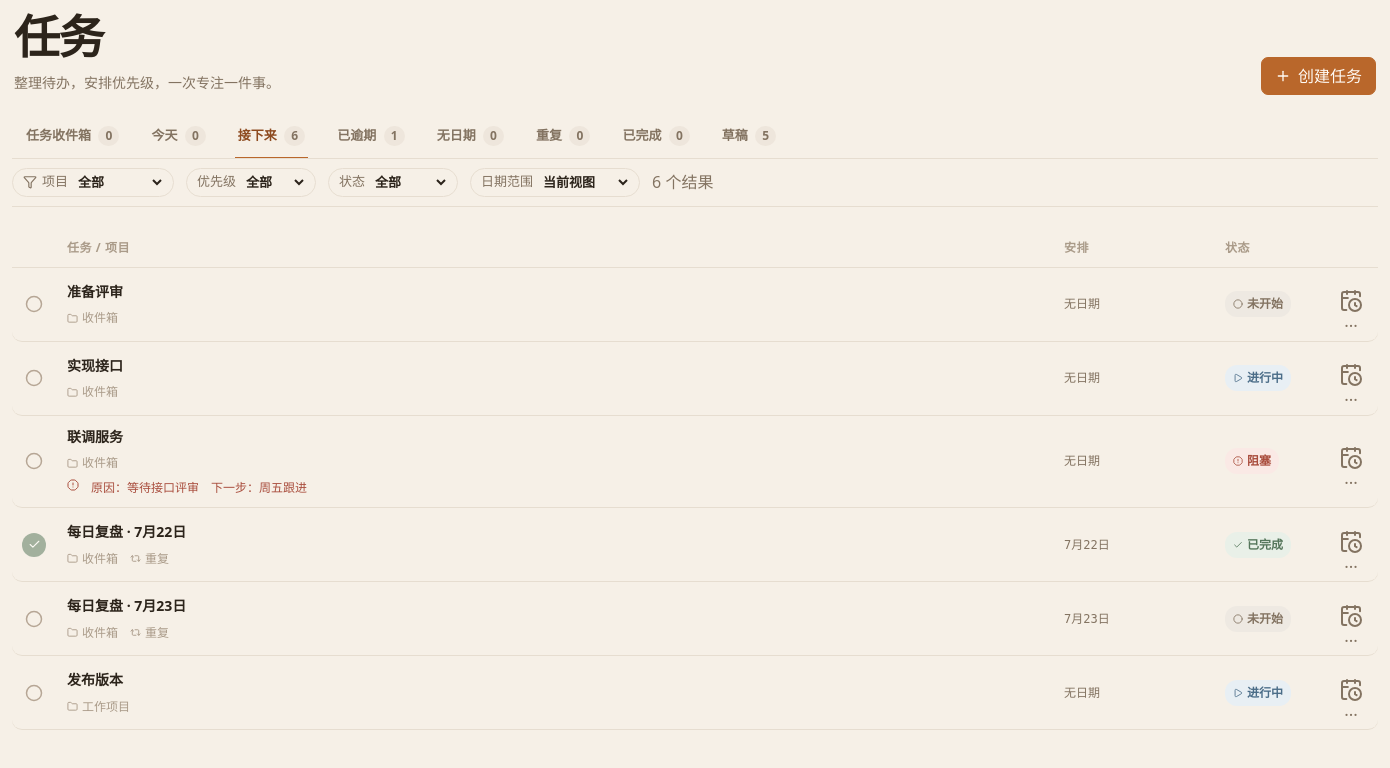
Task occurrence workspace › keeps upcoming selected by default and never mixes overdue into it
Expected: the text "准备评审" is shown, [67,282,123,301]
Expected: the text "补交周报" is not shown
Step 1. Click the tab "已逾期 1" → x=371, y=136, box [323,115,419,158]
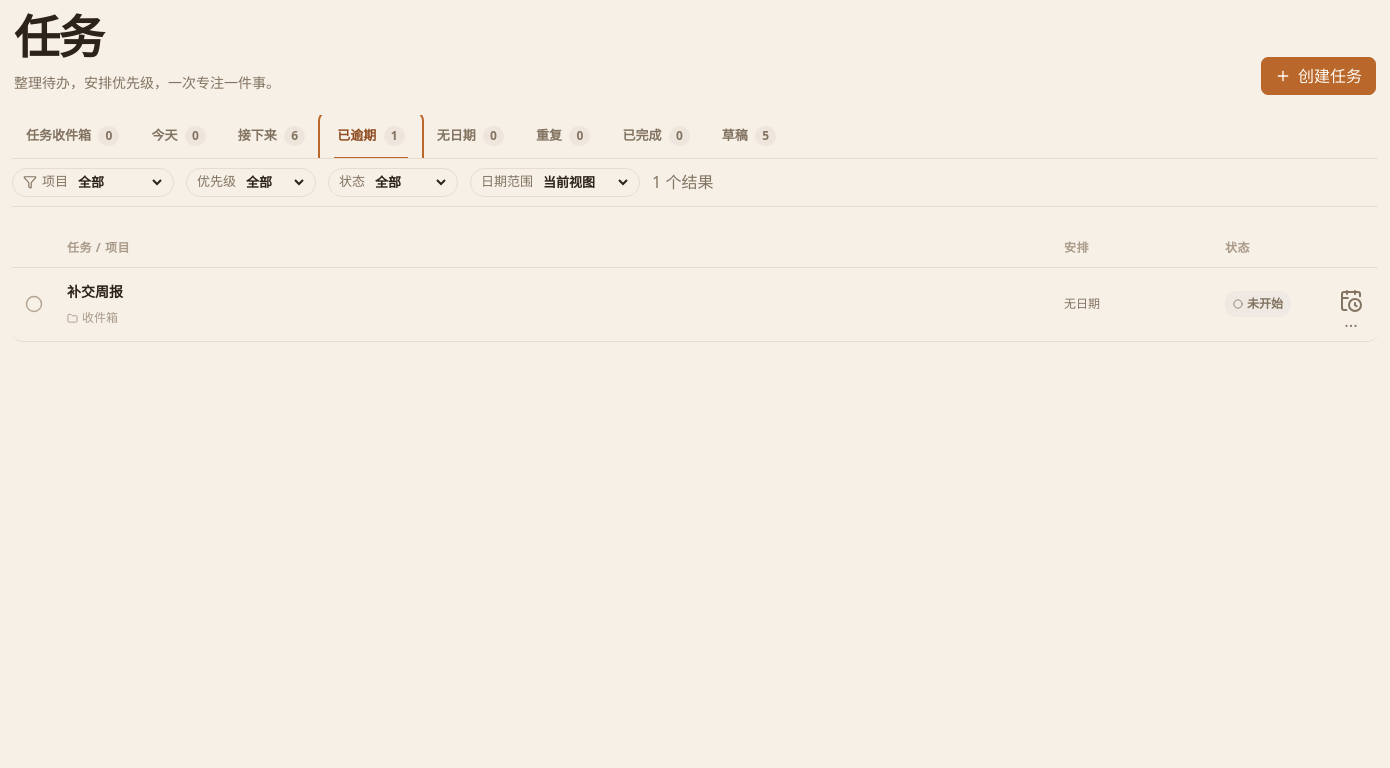
Now the text "补交周报" is shown, box [67,282,123,301]
Now the text "准备评审" is gone
